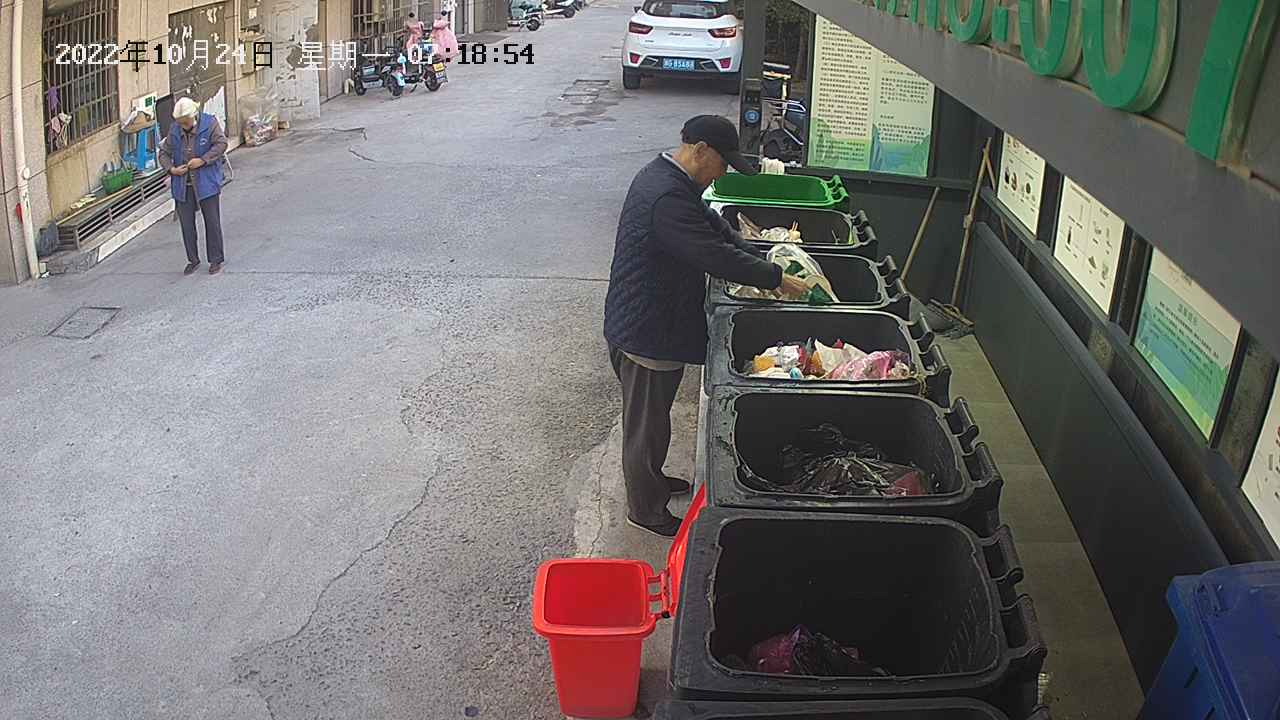person: (595, 112, 816, 543)
worker: (155, 93, 236, 280)
